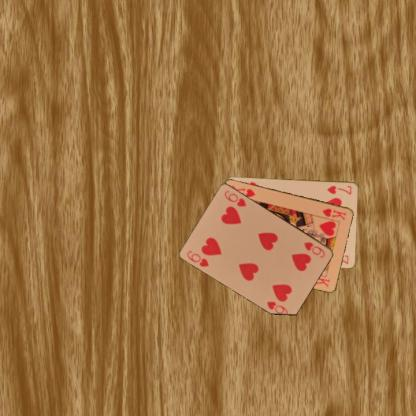6h: (184, 248, 210, 268), (302, 239, 326, 259)
7h: (325, 183, 353, 195)
Kh: (320, 206, 347, 221)
